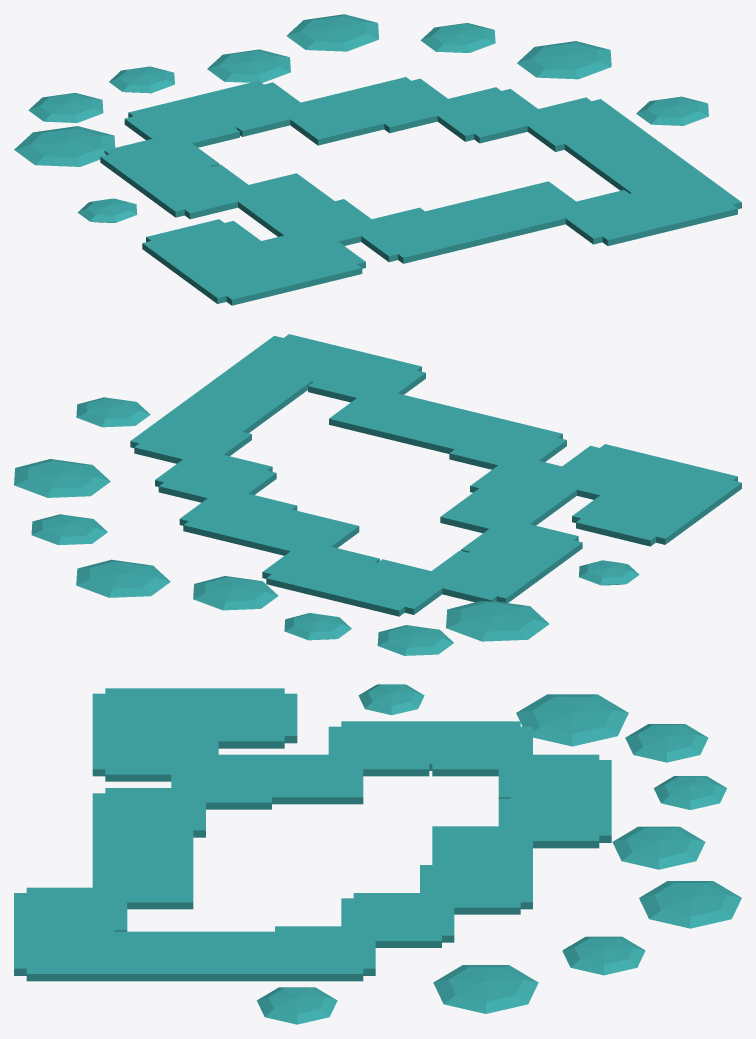
File: Shallows.obj
3 renders of one model, top to bottom at view 1: azimuth 30°, elevation 25°; view 2: azimuth 150°, elevation 25°; view 3: azimuth 270°, elevation 25°, orthographic. The views are drawn at different scales.
Parts seen in each view (by area): view 1: Shallows; view 2: Shallows; view 3: Shallows.
Part boxes in pixels (x1,y1,x2,y2): Shallows: (14,14,741,305); Shallows: (14,334,741,655); Shallows: (14,684,741,1024).
Bounding box in the file's own units: 10.23 × 0.18 × 9.26.
